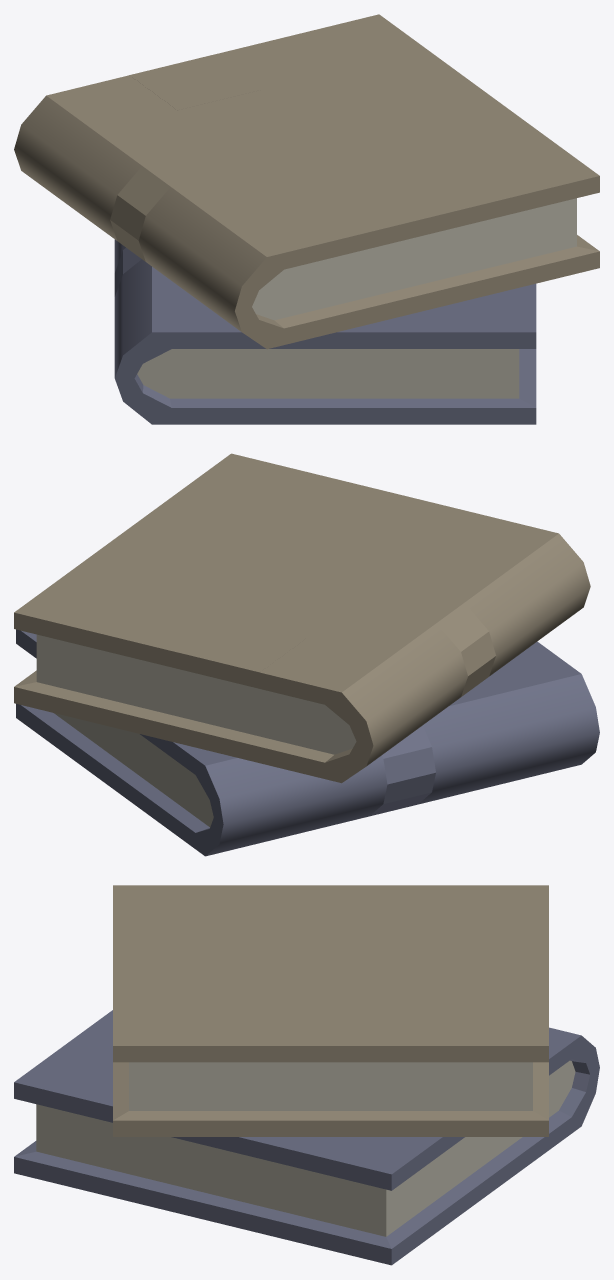
File: BoekStapel1.fbx
The picture shows the model from 3 angles, top to bottom: view 1: azimuth 30°, elevation 25°; view 2: azimuth 150°, elevation 25°; view 3: azimuth 270°, elevation 25°; orthographic projection.
Parts seen in each view (by area): view 1: polySurface3285; view 2: polySurface3285; view 3: polySurface3285.
Part boxes in pixels (x1,y1,x2,y2): polySurface3285: [14, 14, 599, 424]; polySurface3285: [14, 453, 599, 856]; polySurface3285: [14, 885, 599, 1265].
Size of the model in its own units: 0.2027 by 0.0704 by 0.2052.
